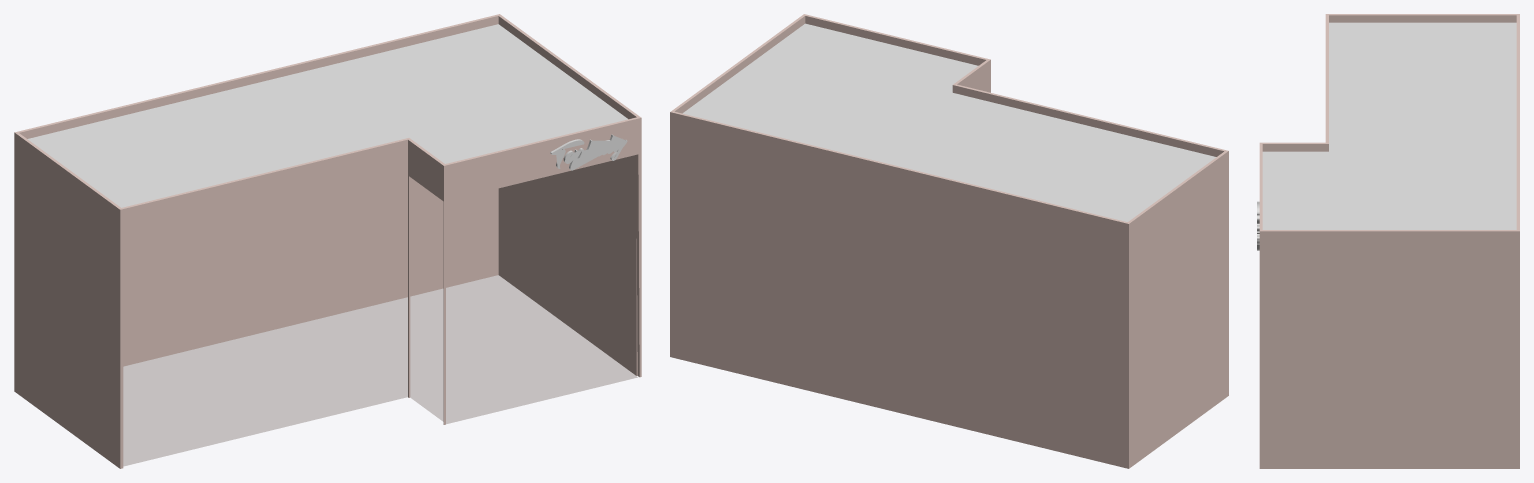
Rendered from tephaty_main.fbx.
The picture shows the model from 3 angles, left to right: view 1: azimuth 30°, elevation 25°; view 2: azimuth 150°, elevation 25°; view 3: azimuth 270°, elevation 25°; orthographic projection. The views are drawn at different scales.
Visible parts, largest first — view 1: Floor; view 2: Floor; view 3: Floor.
Boxes of the visible parts, box(x1,y1,x2,y2) form: Floor: box(14, 14, 641, 468); Floor: box(670, 14, 1228, 468); Floor: box(1257, 14, 1519, 468).
Bounding box in the file's own units: 1012 × 516 × 517.
